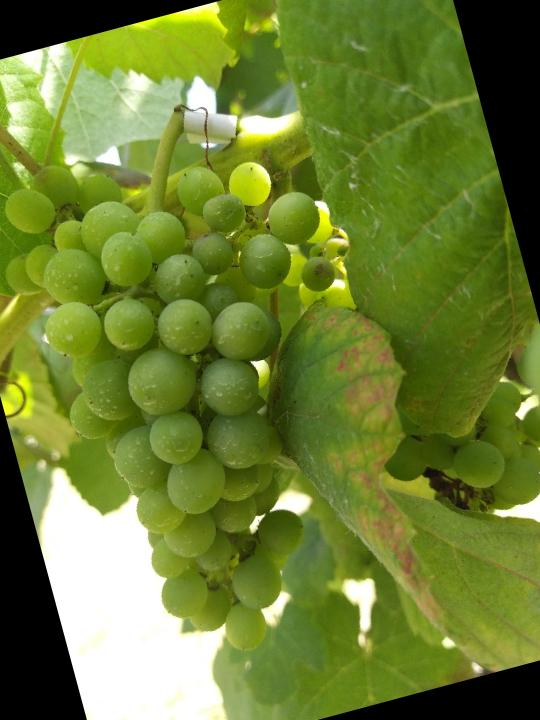grape: (0, 96, 444, 689)
